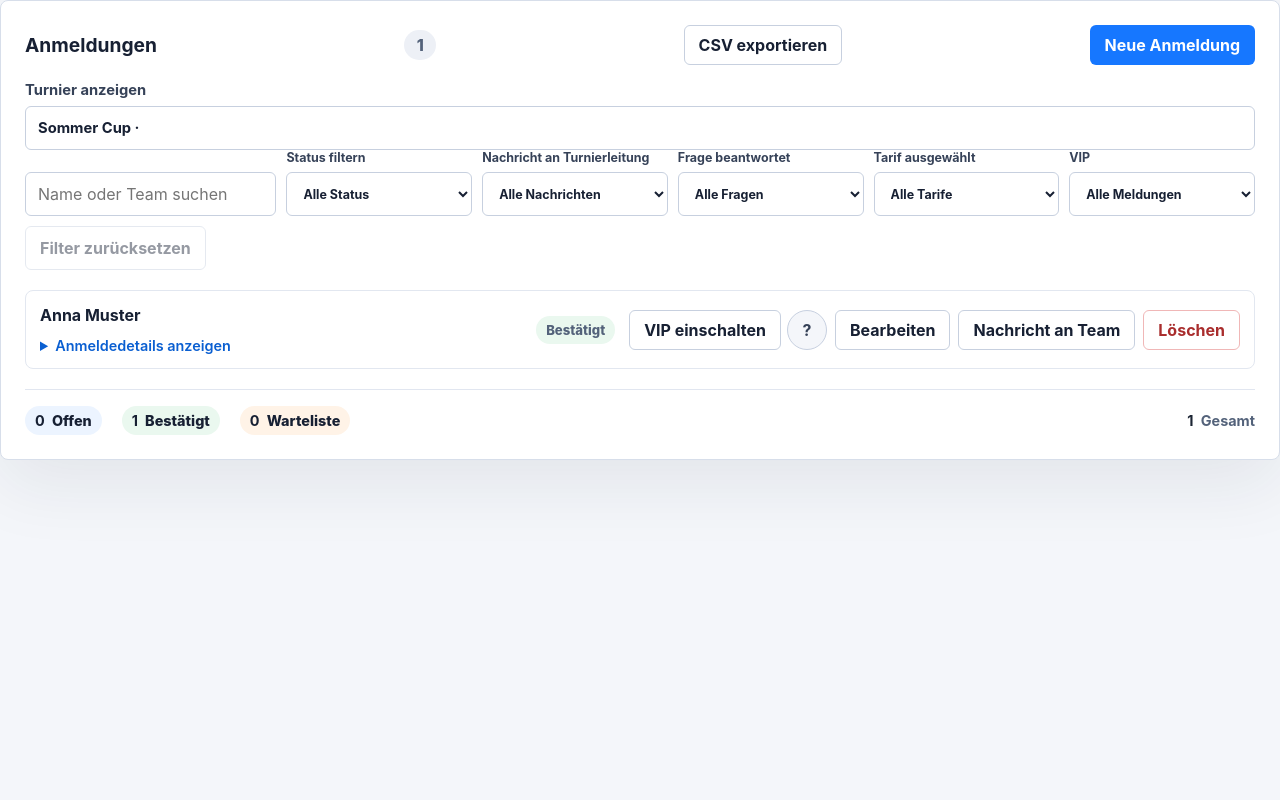
Anmeldungsverwaltung: Anmeldedetails › zeigt Nachricht, Tarife und positive Teilnehmerantworten erst nach dem Aufklappen
The width and height of the screenshot is (1280, 800).
Check: the dropdown labelled "Nachricht an Turnierleitung" is shown, box [482, 172, 668, 216]
Click the heading "Anmeldedetails anzeigen".
click(135, 346)  # box [40, 337, 231, 354]
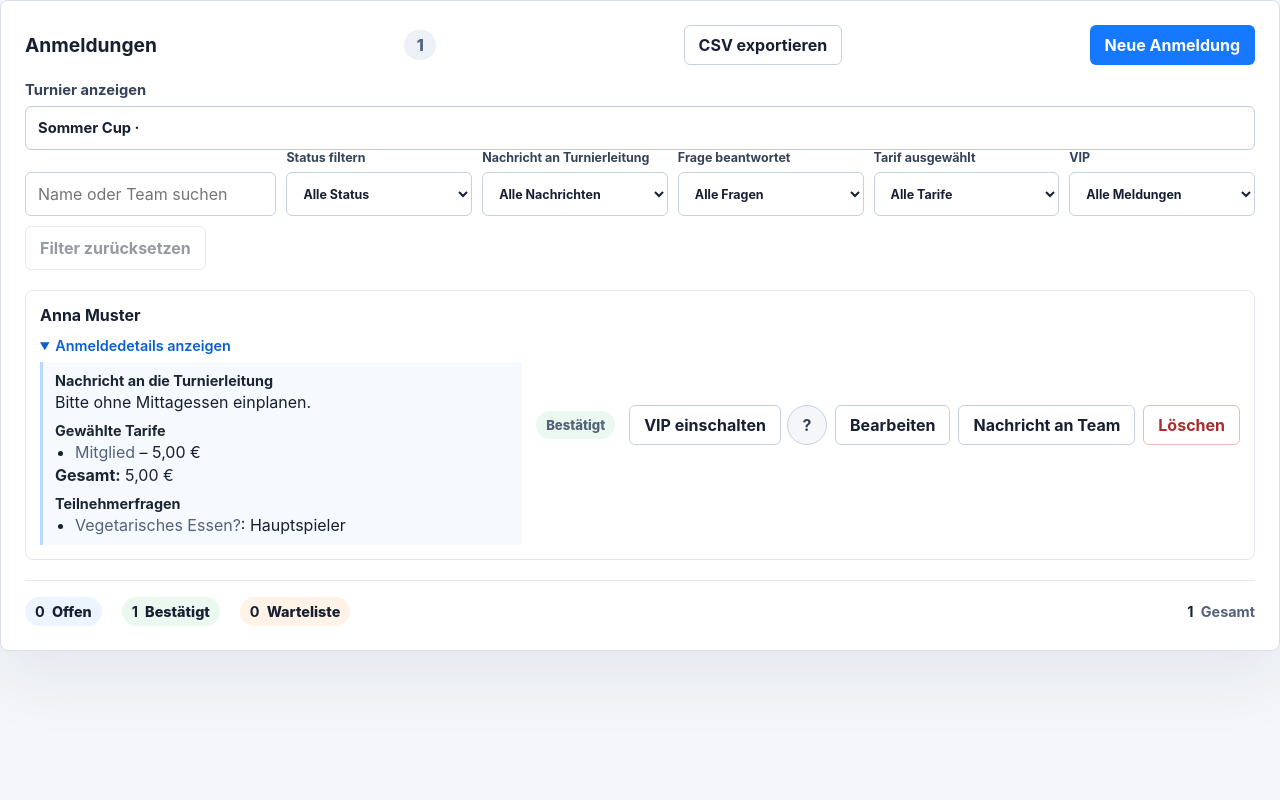
Check: the heading "Nachricht an die Turnierleitung" is shown, box [55, 372, 273, 389]
Check: the heading "Gewählte Tarife" is shown, box [55, 422, 166, 439]
Check: the heading "Teilnehmerfragen" is shown, box [55, 495, 181, 512]
